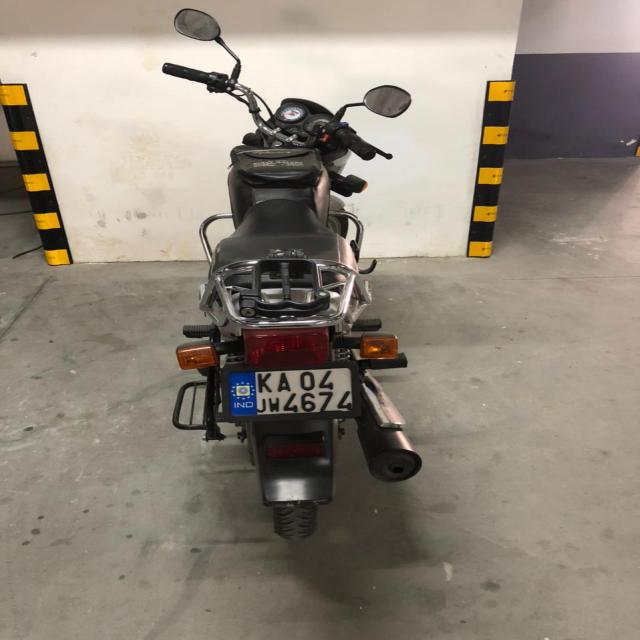license_plate: (222, 365, 362, 421)
